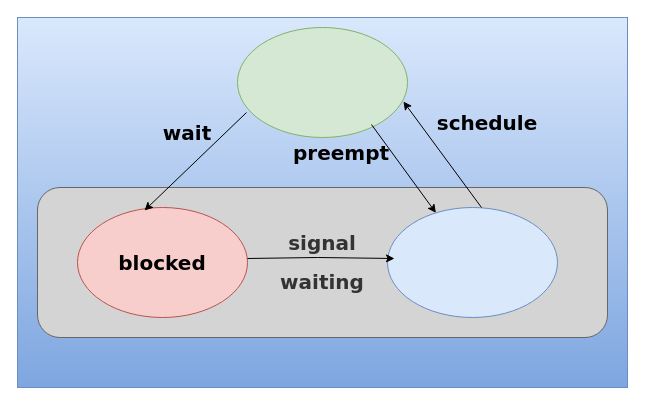
The diagram is 645 pixels wide and 405 high, and some of its shapes have lost their labels. Each missing label, with the box of its shape:
ready: (386, 206, 558, 318)
running: (236, 26, 408, 138)
